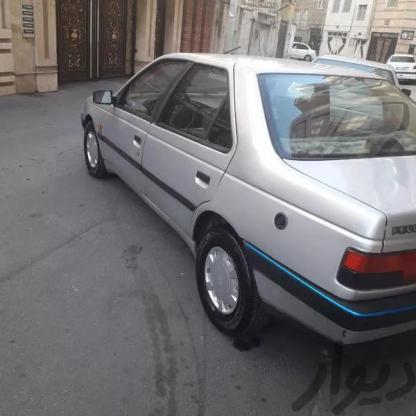Car: (65, 41, 416, 382), (378, 55, 416, 90), (288, 40, 320, 64)
